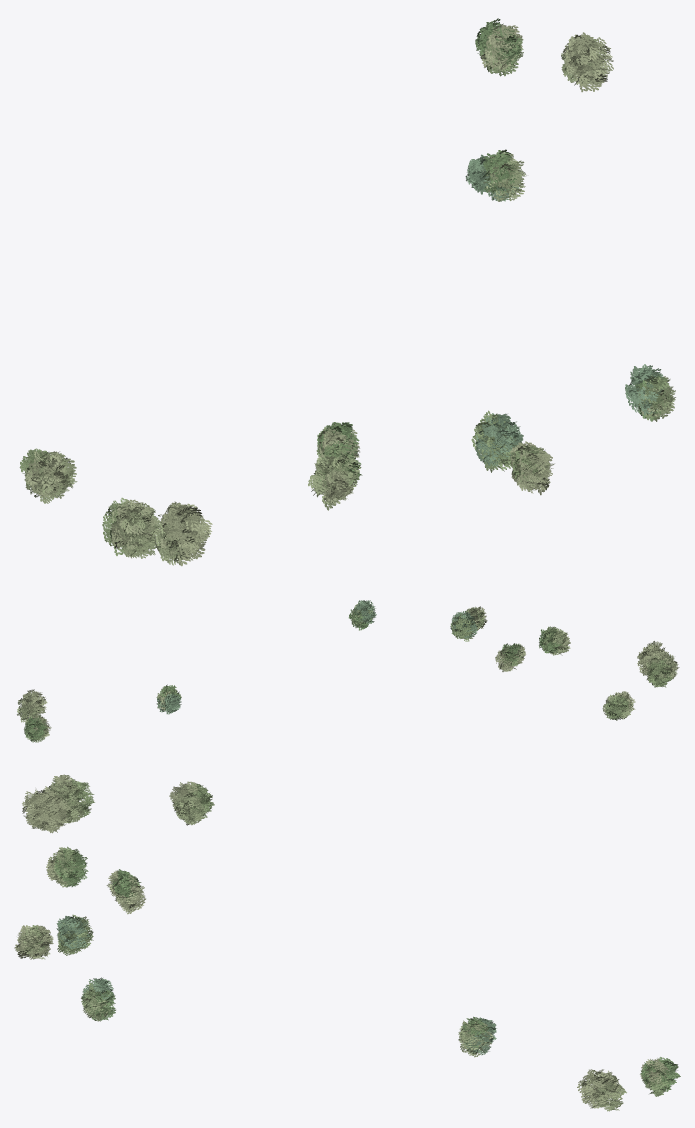
Rendered from campus-tree-4_-2-near.glb.
3 renders of one model, top to bottom at view 1: azimuth 30°, elevation 25°; view 2: azimuth 150°, elevation 25°; view 3: azimuth 270°, elevation 25°, orthographic. The views are drawn at different scales.
Visible parts, largest first — view 1: Campus leaf canopy; view 2: Campus leaf canopy; view 3: Campus leaf canopy.
Boxes of the visible parts, bbox=[...] form: Campus leaf canopy: bbox=[19, 18, 675, 566]; Campus leaf canopy: bbox=[17, 600, 679, 742]; Campus leaf canopy: bbox=[14, 774, 680, 1111].
Bounding box in the file's own units: 82.37 × 6.58 × 74.7.
Materials: 1 (1 with a texture image).
